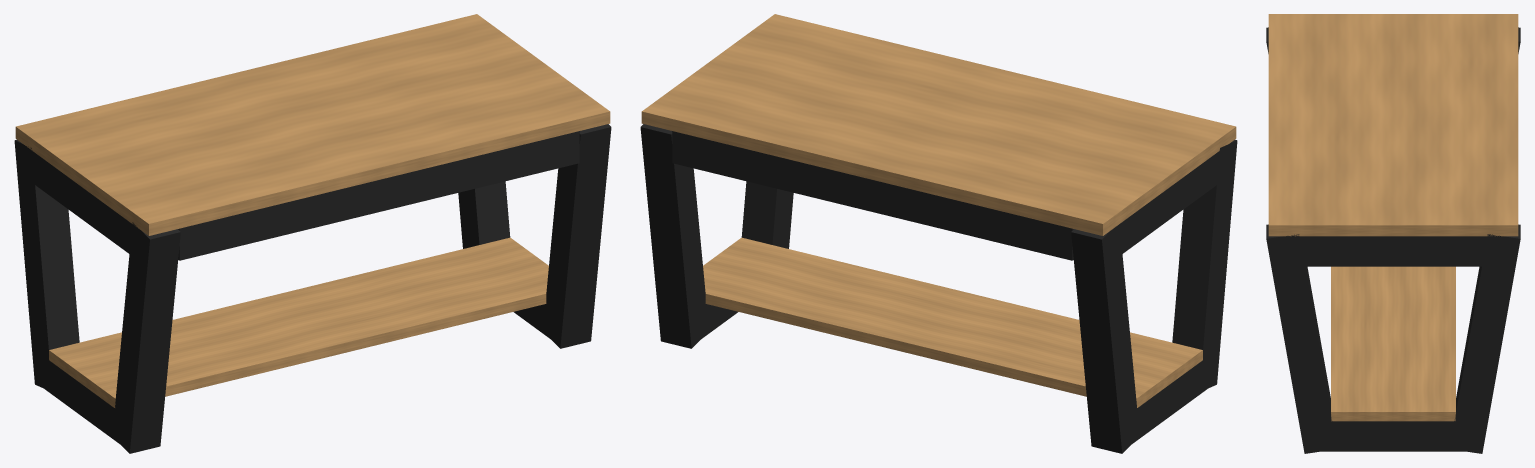
Rendered from mesa-living-nord-estante-miel-negro.glb.
3 renders of one model, left to right at view 1: azimuth 30°, elevation 25°; view 2: azimuth 150°, elevation 25°; view 3: azimuth 270°, elevation 25°, orthographic. The views are drawn at different scales.
Parts seen in each view (by area): view 1: Tapa de madera maciza 120 x 60 x 3 cm, Pata inclinada hacia adentro, perfil 80 x 80 mm (×4), Estante inferior de madera de 120 cm (proporción aproximada), Larguero longitudinal superior de hierro 80 x 80 mm, Travesaño superior del trapecio, ancho exterior 60 cm, Travesaño inferior del trapecio, ancho exterior 44 cm; view 2: Tapa de madera maciza 120 x 60 x 3 cm, Pata inclinada hacia adentro, perfil 80 x 80 mm (×4), Estante inferior de madera de 120 cm (proporción aproximada), Larguero longitudinal superior de hierro 80 x 80 mm, Travesaño superior del trapecio, ancho exterior 60 cm, Travesaño inferior del trapecio, ancho exterior 44 cm (×2); view 3: Tapa de madera maciza 120 x 60 x 3 cm, Estante inferior de madera de 120 cm (proporción aproximada), Pata inclinada hacia adentro, perfil 80 x 80 mm (×2), Travesaño superior del trapecio, ancho exterior 60 cm, Travesaño inferior del trapecio, ancho exterior 44 cm.
Boxes of the visible parts, bbox=[...] form: Tapa de madera maciza 120 x 60 x 3 cm: bbox=[15, 14, 610, 235]; Pata inclinada hacia adentro, perfil 80 x 80 mm (×4): bbox=[14, 124, 611, 453]; Estante inferior de madera de 120 cm (proporción aproximada): bbox=[49, 237, 548, 407]; Larguero longitudinal superior de hierro 80 x 80 mm: bbox=[178, 131, 579, 260]; Travesaño superior del trapecio, ancho exterior 60 cm: bbox=[24, 145, 139, 261]; Travesaño inferior del trapecio, ancho exterior 44 cm: bbox=[42, 360, 122, 445]; Tapa de madera maciza 120 x 60 x 3 cm: bbox=[641, 14, 1236, 235]; Pata inclinada hacia adentro, perfil 80 x 80 mm (×4): bbox=[640, 124, 1237, 453]; Estante inferior de madera de 120 cm (proporción aproximada): bbox=[703, 237, 1202, 407]; Larguero longitudinal superior de hierro 80 x 80 mm: bbox=[672, 131, 1073, 260]; Travesaño superior del trapecio, ancho exterior 60 cm: bbox=[1112, 145, 1227, 261]; Travesaño inferior del trapecio, ancho exterior 44 cm (×2): bbox=[699, 304, 1206, 443]; Tapa de madera maciza 120 x 60 x 3 cm: bbox=[1268, 14, 1518, 236]; Estante inferior de madera de 120 cm (proporción aproximada): bbox=[1331, 266, 1455, 421]; Pata inclinada hacia adentro, perfil 80 x 80 mm (×2): bbox=[1266, 224, 1520, 453]; Travesaño superior del trapecio, ancho exterior 60 cm: bbox=[1285, 236, 1501, 266]; Travesaño inferior del trapecio, ancho exterior 44 cm: bbox=[1318, 421, 1468, 451].
Size of the model in its own units: 1.2 by 0.6064 by 0.611.
2 materials, 1 textured.
